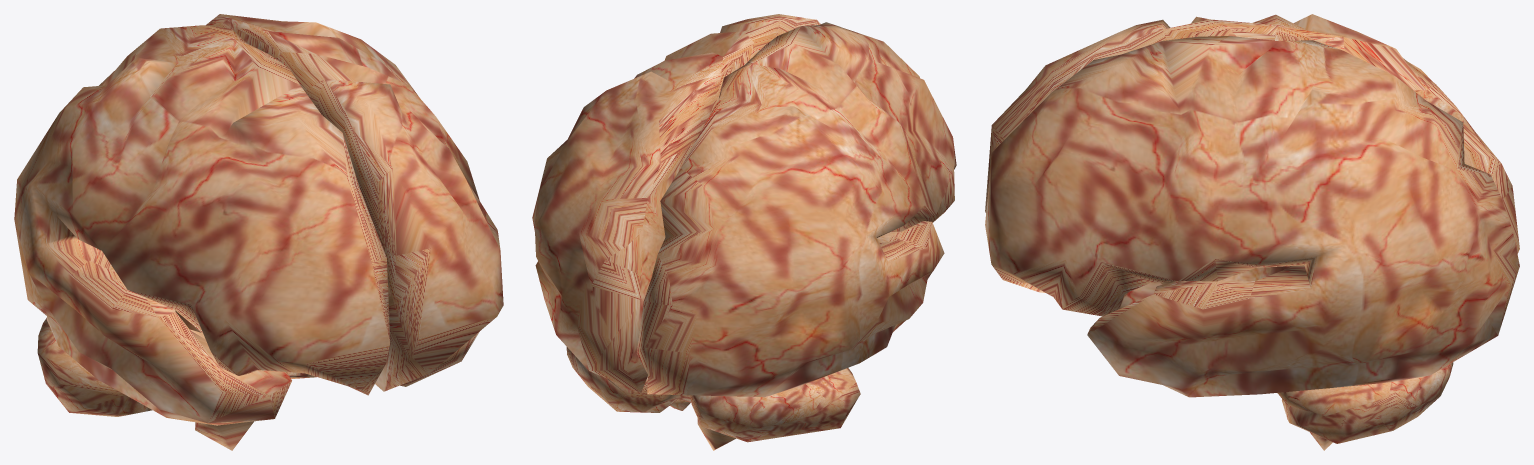
The model's file is Brain_Model_Small.fbx.
3 renders of one model, left to right at view 1: azimuth 30°, elevation 25°; view 2: azimuth 150°, elevation 25°; view 3: azimuth 270°, elevation 25°, orthographic. The views are drawn at different scales.
Visible parts, largest first — view 1: Brain; view 2: Brain; view 3: Brain.
Part boxes in pixels (left/top/right/bottom): Brain: left=14, top=14, right=503, bottom=450; Brain: left=532, top=14, right=956, bottom=450; Brain: left=985, top=14, right=1519, bottom=450.
Bounding box in the file's own units: 1.06 × 1.1 × 1.29.
